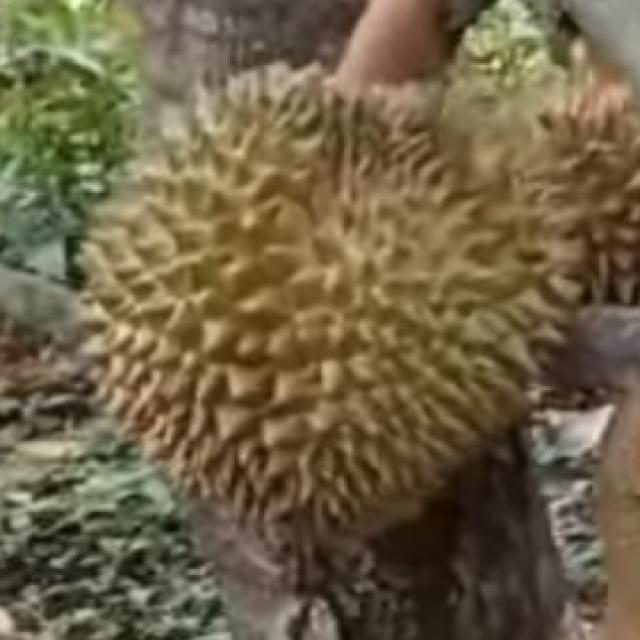mature: (74, 54, 570, 548)
